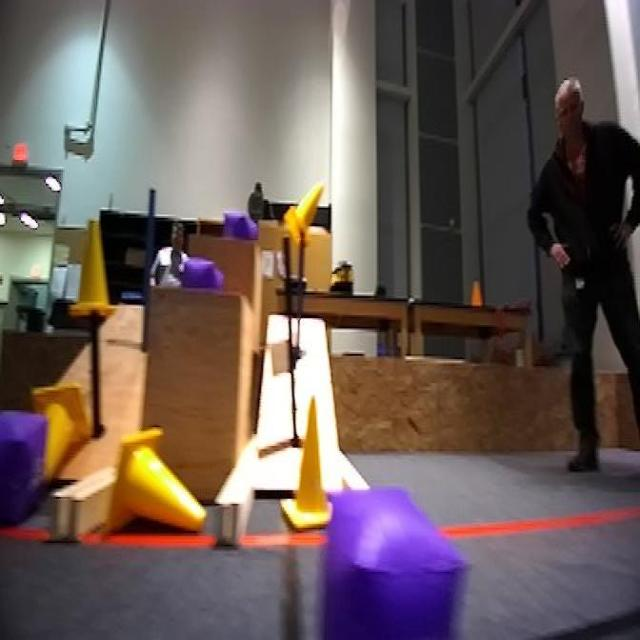frc_cone: (113, 428, 207, 542), (274, 397, 342, 531), (69, 208, 121, 318), (30, 386, 84, 482), (280, 178, 329, 248)
frc_cube: (314, 488, 465, 640), (0, 407, 44, 524), (180, 252, 222, 293), (221, 206, 255, 242)
